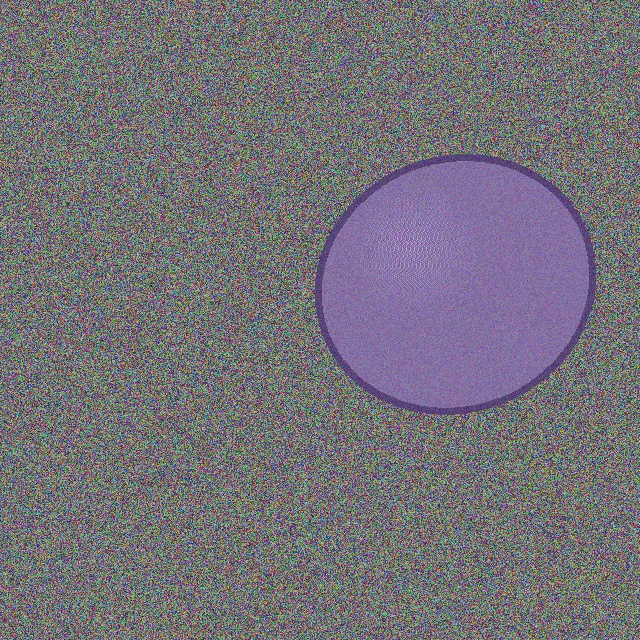lens: (318, 158, 592, 410)
